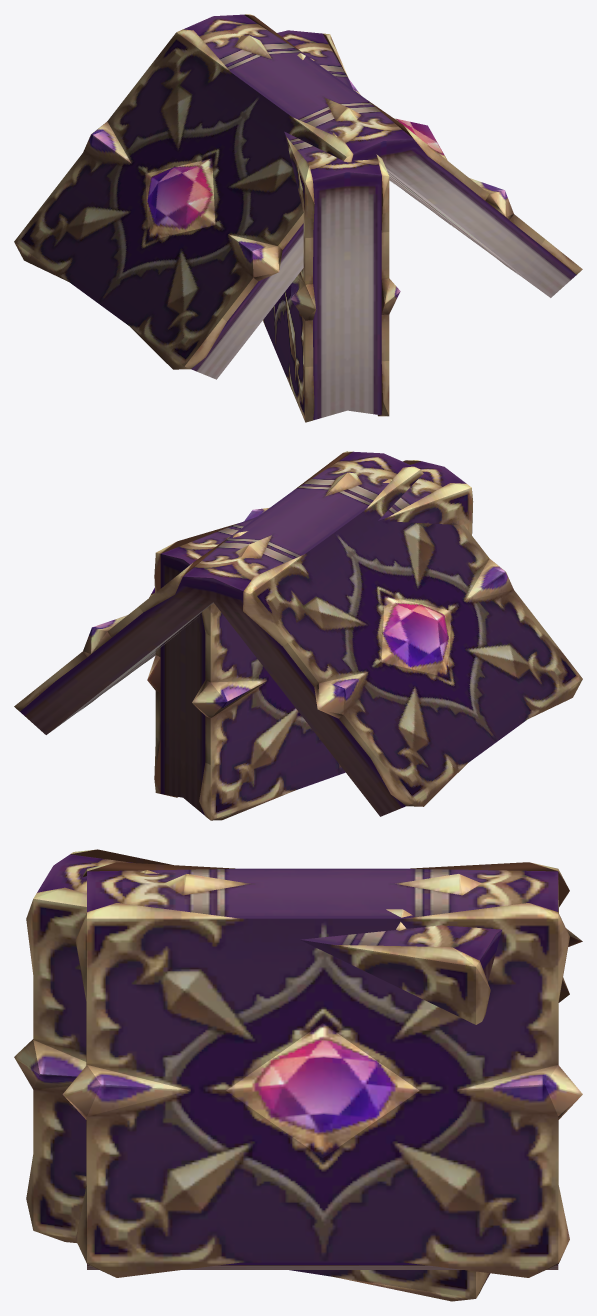
3 views of the same model, one above another, from view 1: azimuth 30°, elevation 25°; view 2: azimuth 150°, elevation 25°; view 3: azimuth 270°, elevation 25° (orthographic). The views are drawn at different scales.
Visible parts, largest first — view 1: mRodOp, mRod; view 2: mRodOp, mRod; view 3: mRodOp, mRod.
Part boxes in pixels (x1,y1,x2,y2): mRodOp: (14, 14, 582, 379); mRod: (263, 30, 400, 422); mRodOp: (14, 451, 582, 816); mRod: (147, 460, 473, 820); mRodOp: (62, 862, 582, 1277); mRod: (14, 849, 501, 1301).
Bounding box in the file's own units: 0.3998 × 0.261 × 0.3565.
1 material, 1 textured.
